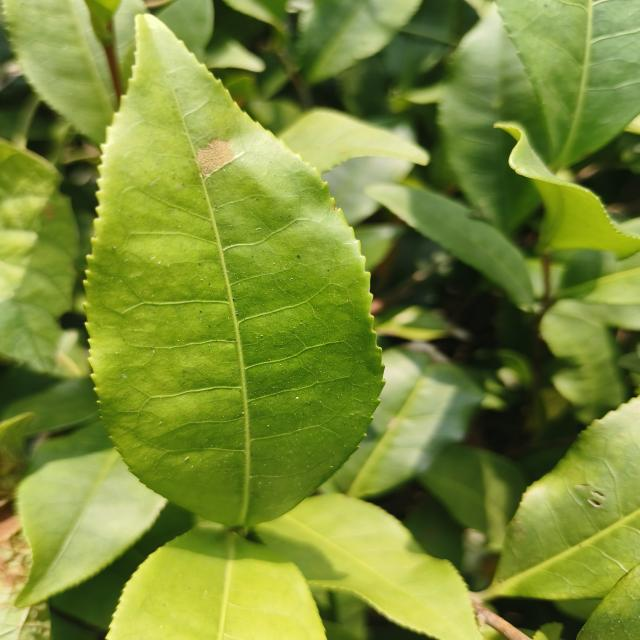Leaf: (86, 17, 382, 528), (255, 494, 482, 640), (484, 398, 640, 600), (16, 422, 166, 607), (107, 522, 326, 640), (496, 0, 640, 169), (439, 5, 546, 231), (332, 344, 483, 498), (367, 183, 534, 309), (494, 122, 640, 259), (2, 0, 116, 144), (418, 444, 526, 551), (541, 300, 627, 424), (300, 0, 421, 84), (281, 108, 429, 173), (0, 378, 98, 462), (114, 0, 146, 92)
